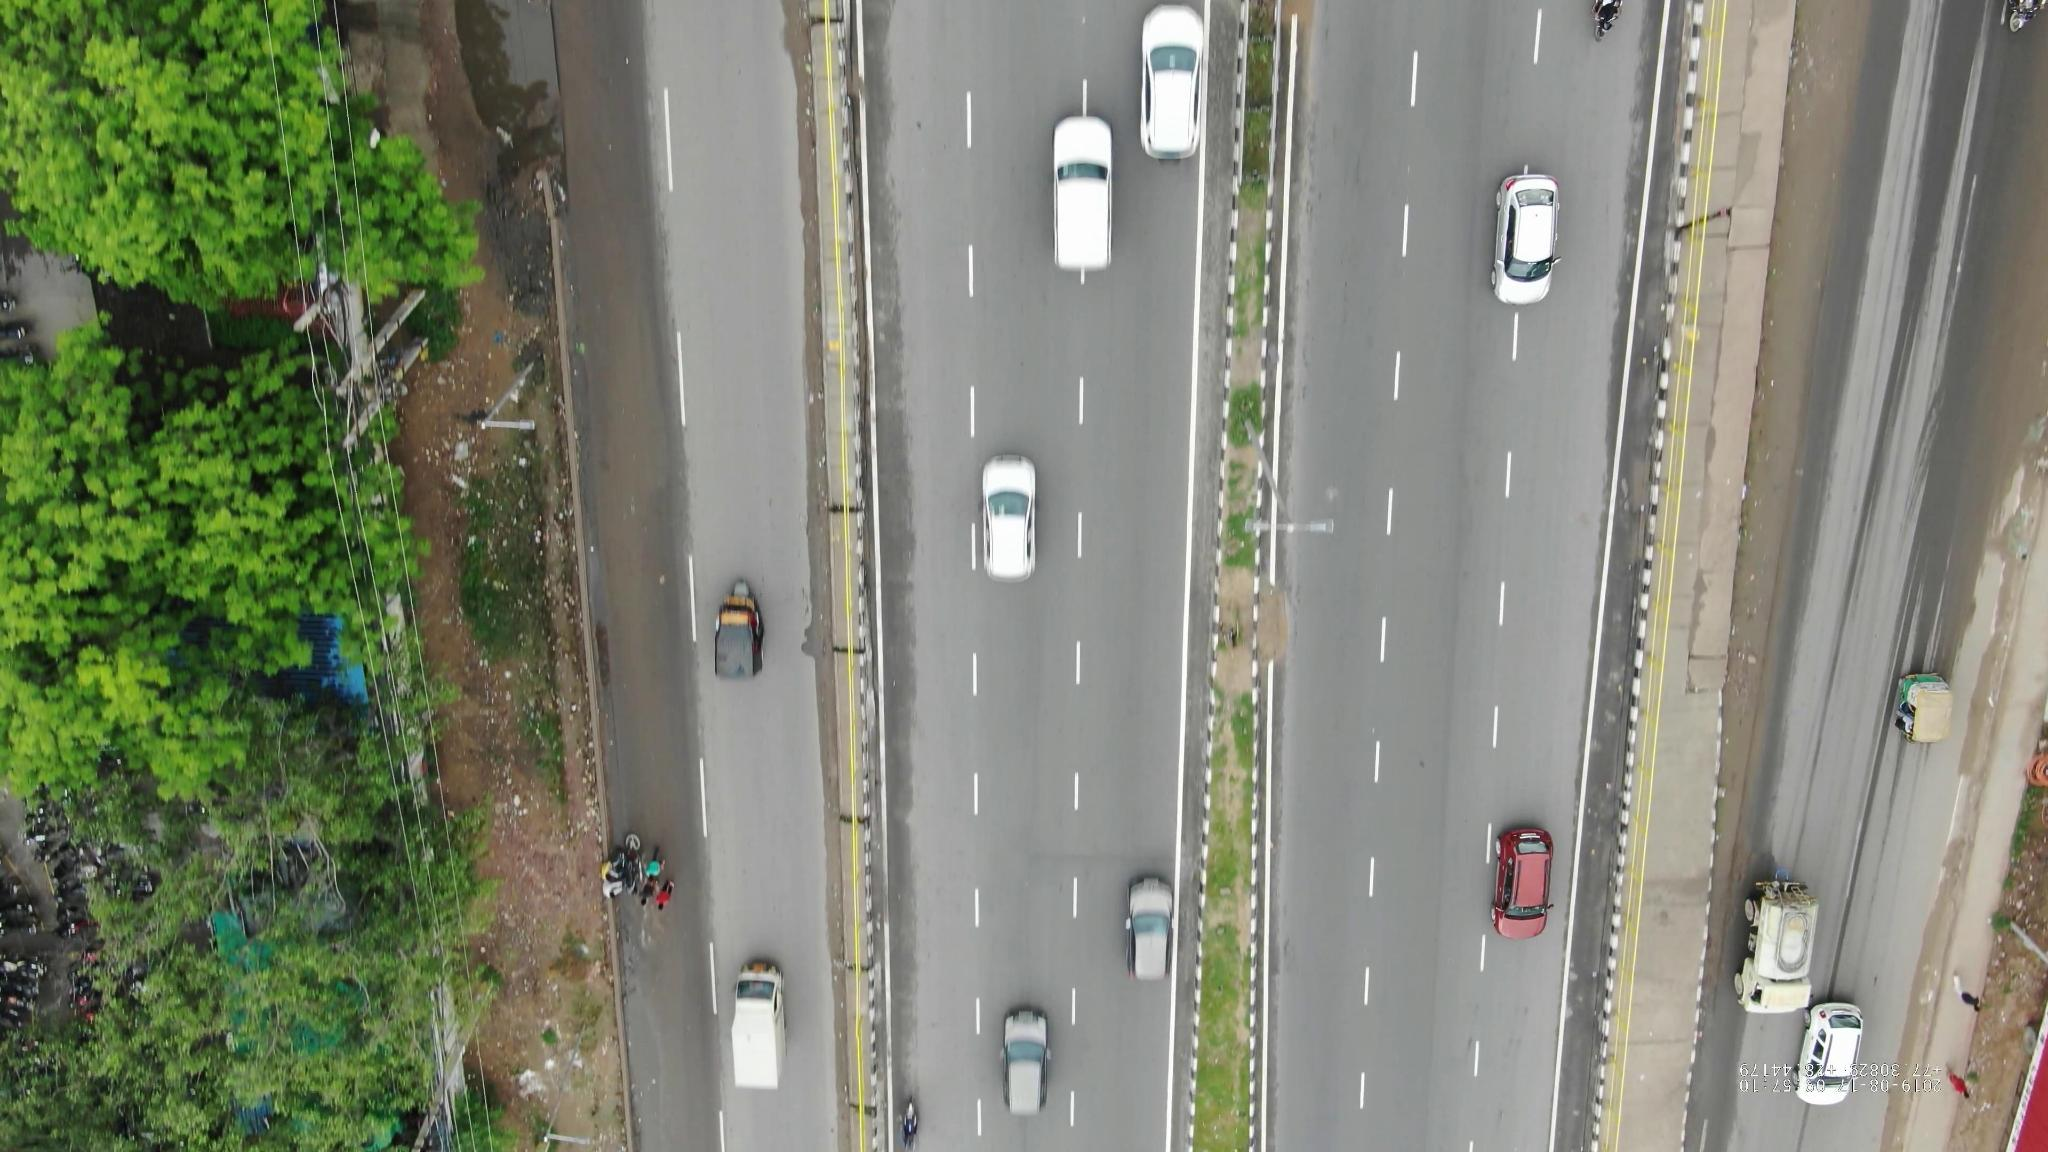Muddy_road: (1765, 30, 1871, 286), (1724, 335, 1800, 622)
Waterlogging: (570, 357, 706, 761)
